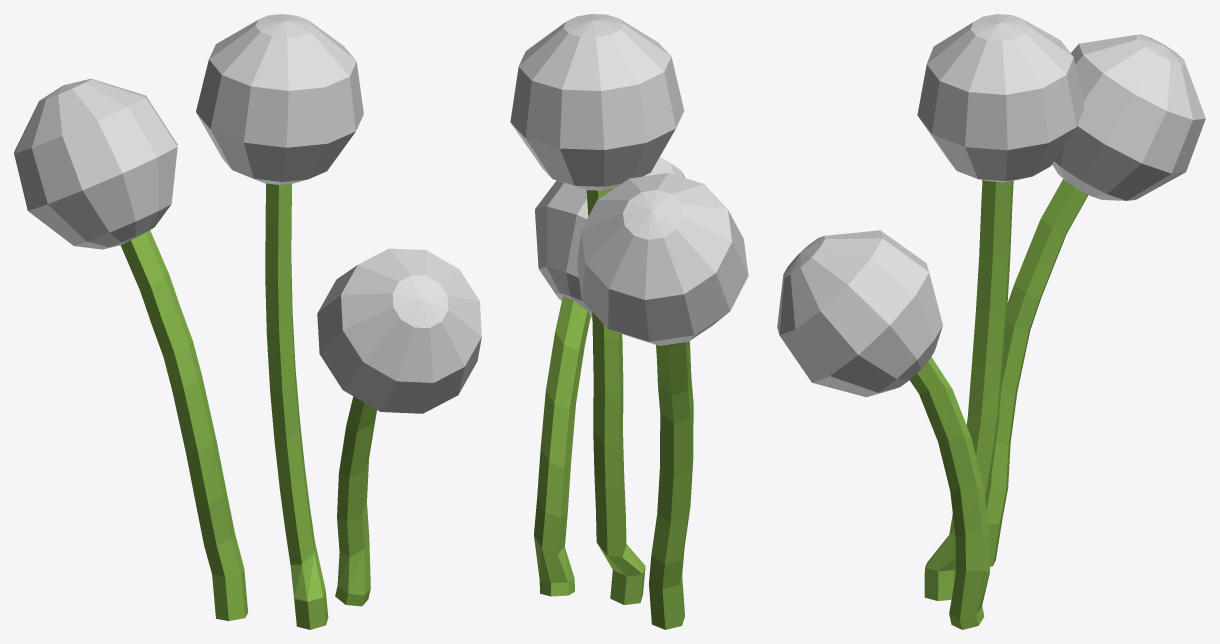
3 renders of one model, left to right at view 1: azimuth 30°, elevation 25°; view 2: azimuth 150°, elevation 25°; view 3: azimuth 270°, elevation 25°, orthographic. The views are drawn at different scales.
Visible parts, largest first — view 1: default; view 2: default; view 3: default.
Boxes of the visible parts, x1,y1,x2,y2 form: default: [14, 14, 481, 629]; default: [510, 14, 748, 629]; default: [777, 14, 1205, 629].
Size of the model in its own units: 0.1058 by 0.1867 by 0.1259.
